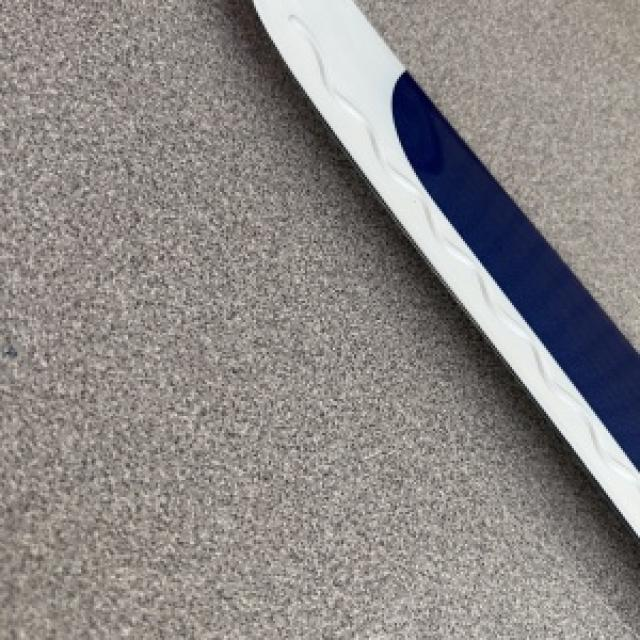healthy: (81, 4, 638, 638), (254, 0, 638, 535)
